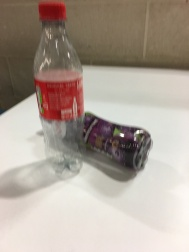bottle_purple: (85, 120, 162, 174)
bottle_red: (31, 2, 89, 187)
